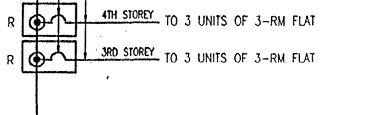Single Phase Tap-Off Unit: (19, 0, 79, 40), (19, 38, 80, 77)
